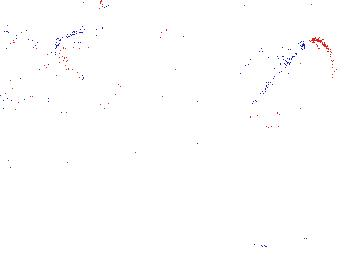moon jellyfish: (247, 38, 335, 129), (52, 29, 152, 104), (88, 2, 167, 65), (1, 43, 64, 100)
